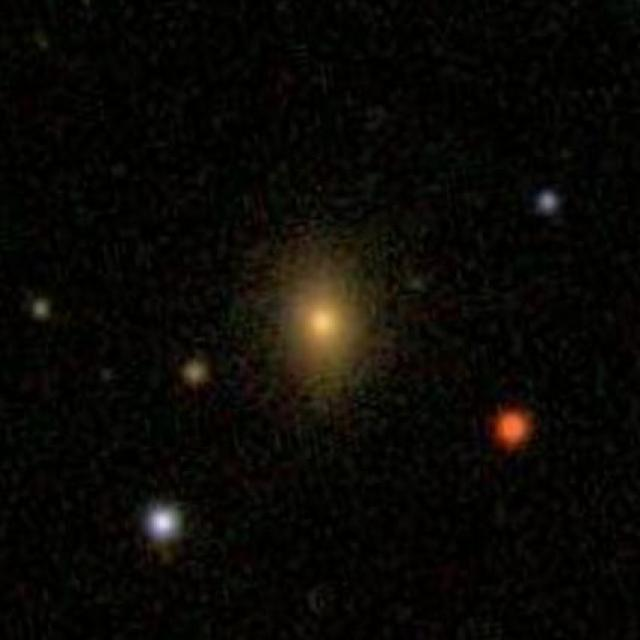galaxy: (250, 228, 387, 427), (133, 499, 198, 557), (482, 398, 538, 459), (26, 290, 61, 332), (179, 355, 211, 392), (533, 187, 558, 219)
